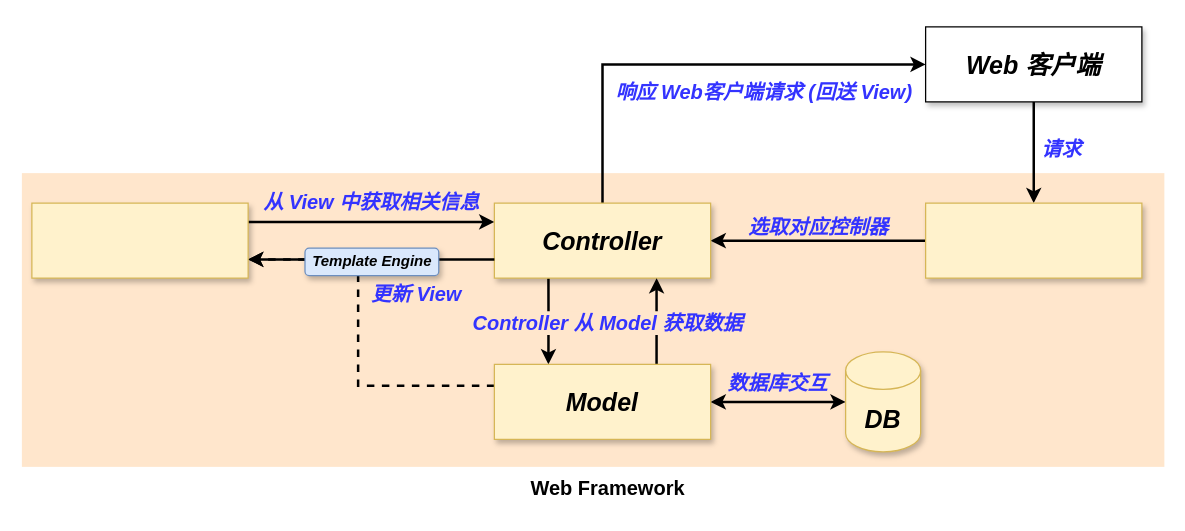
Image size: 1185x531. Some labels were removed from this diagram. The shapes that lost their labels are listed below. From the top down, each one's centre as x and y in pixels, then its label:
At (x=141, y=242): "View".
At (x=1034, y=242): "Router".
